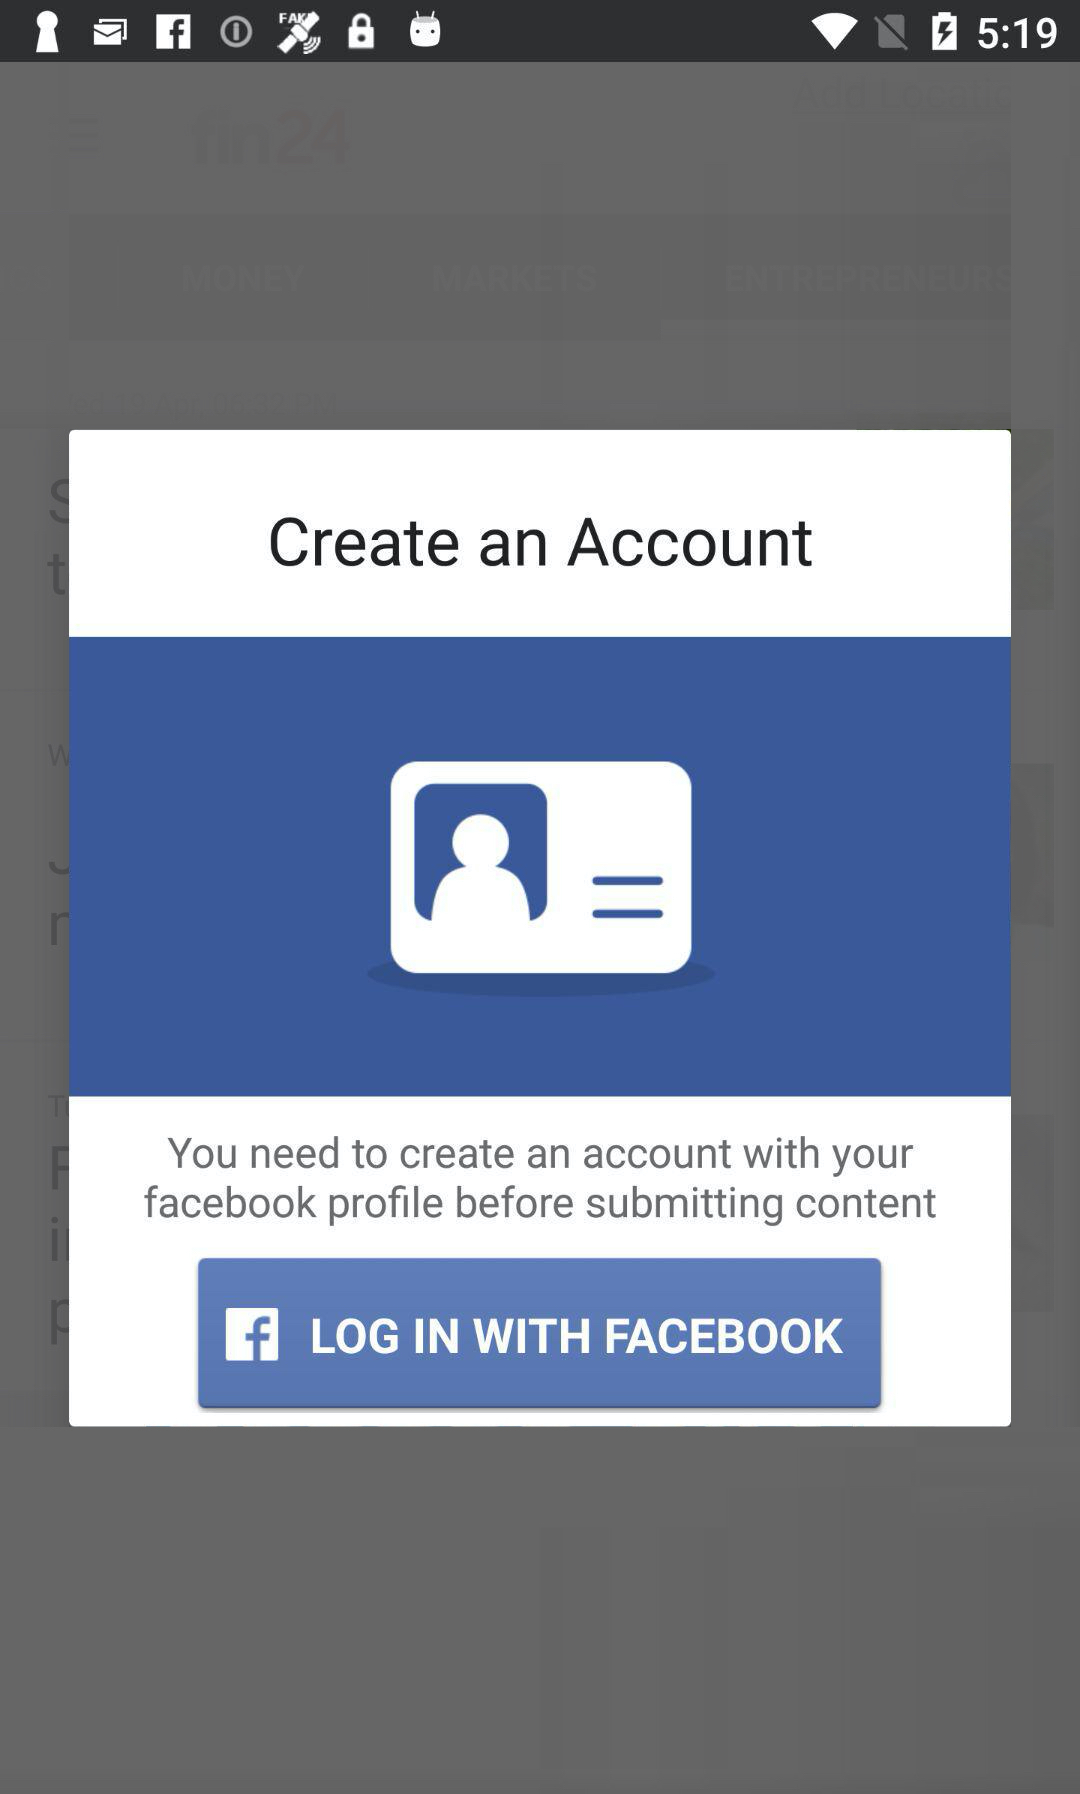Image: (372, 762, 715, 997)
Modal: (69, 431, 1012, 1428)
Text: (143, 1135, 937, 1226), (272, 518, 812, 568)
TextButton: (199, 1258, 881, 1410)
UpperTaskBar: (1, 1, 1080, 64)
